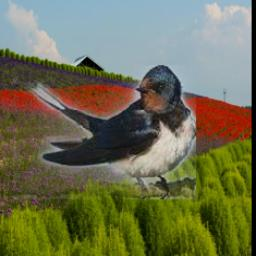Swallow: (13, 65, 196, 199)
